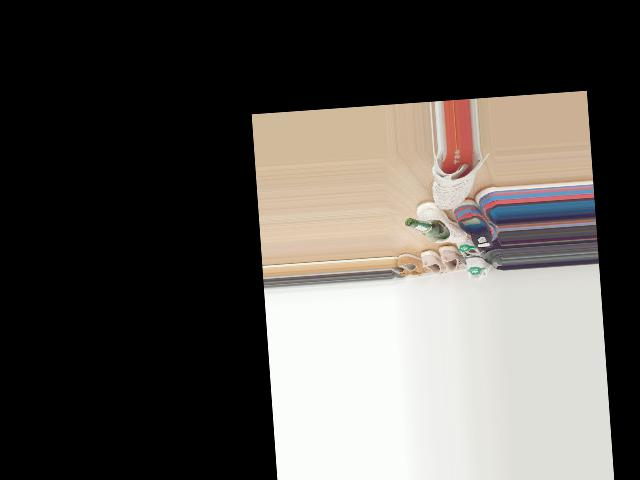beer: (404, 215, 450, 242)
